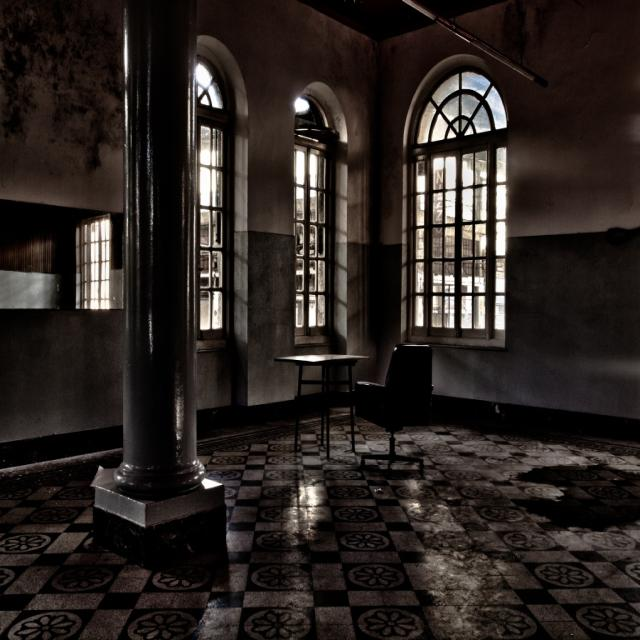Table: (275, 316, 373, 495)
chair: (372, 323, 448, 466)
